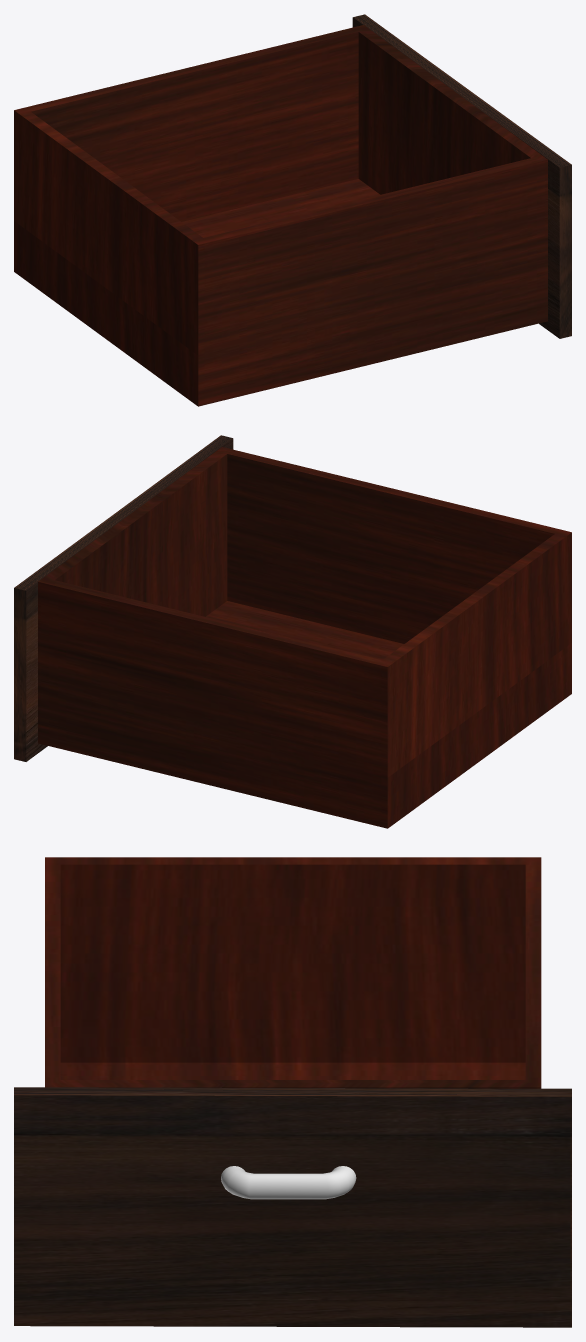
The model's file is 3D Drawer.fbx.
3 views of the same model, one above another, from view 1: azimuth 30°, elevation 25°; view 2: azimuth 150°, elevation 25°; view 3: azimuth 270°, elevation 25° (orthographic). The views are drawn at different scales.
Visible parts, largest first — view 1: pTorus11; view 2: pTorus11; view 3: pTorus11.
Part boxes in pixels (x1,y1,x2,y2): pTorus11: (14, 14, 571, 406); pTorus11: (14, 435, 571, 828); pTorus11: (14, 857, 571, 1327).
Size of the model in its own units: 6.48 by 2.8 by 6.09.
